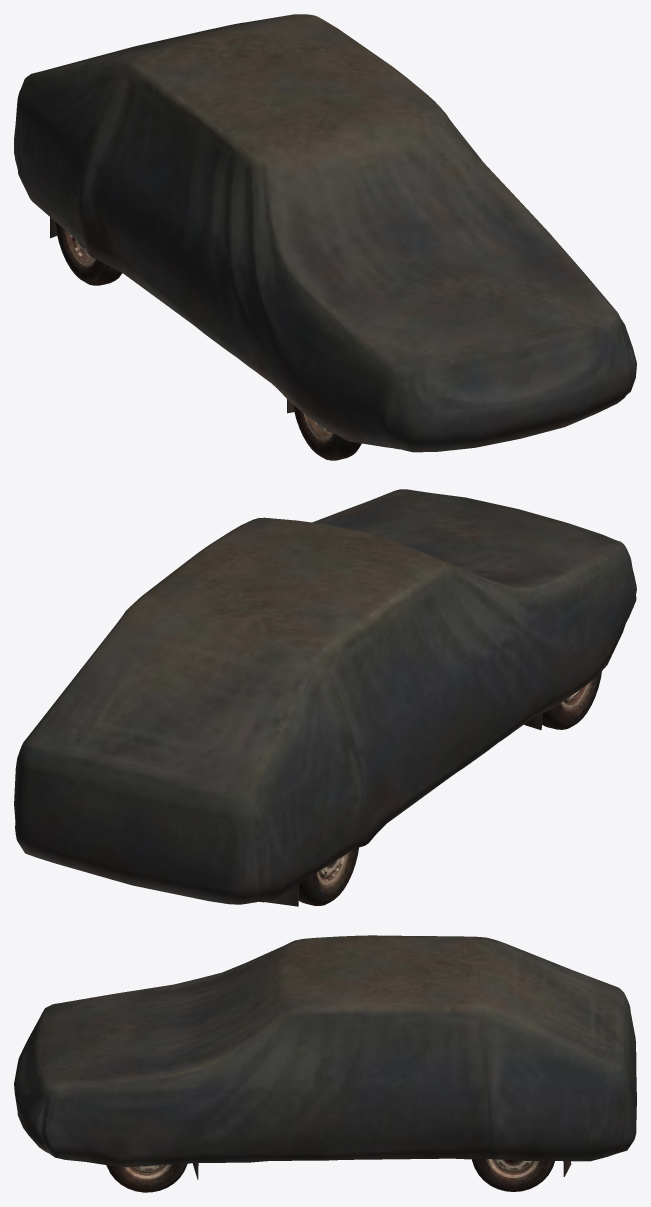
File: covered_car.glb
3 renders of one model, top to bottom at view 1: azimuth 30°, elevation 25°; view 2: azimuth 150°, elevation 25°; view 3: azimuth 270°, elevation 25°, orthographic. The views are drawn at different scales.
Visible parts, largest first — view 1: covered_car; view 2: covered_car; view 3: covered_car.
Part boxes in pixels (x1,y1,x2,y2): covered_car: (14,14,636,460); covered_car: (14,489,636,906); covered_car: (14,935,636,1192).
Bounding box in the file's own units: 1.8 × 1.42 × 4.4.
Materials: 1 (1 with a texture image).
